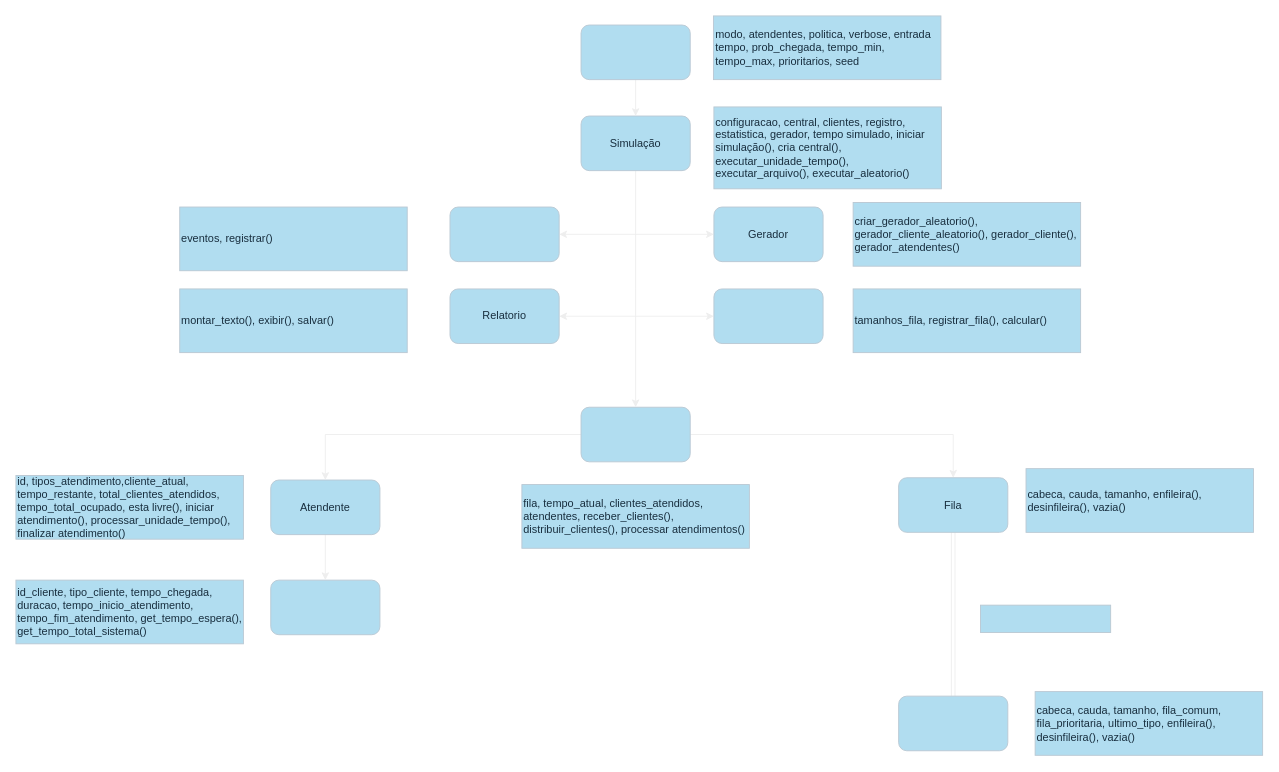
This 1279x772 diagram has some shape labels left out. Each missing label, with the box of its shape:
CentralAtendimento: (580, 406, 690, 462)
Cliente: (270, 579, 380, 635)
Configuração: (580, 24, 690, 80)
Estatisticas: (713, 288, 823, 344)
FilaPrioritaria: (898, 695, 1008, 751)
FilaPrioritaria herda Fila: (980, 604, 1111, 632)
RegistroEventos: (449, 206, 559, 262)
